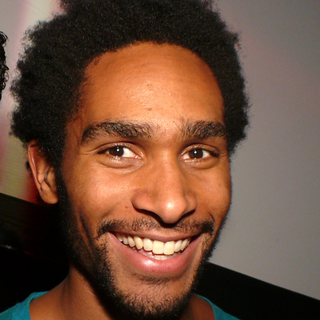eye: (90, 139, 154, 168), (174, 135, 220, 169)
